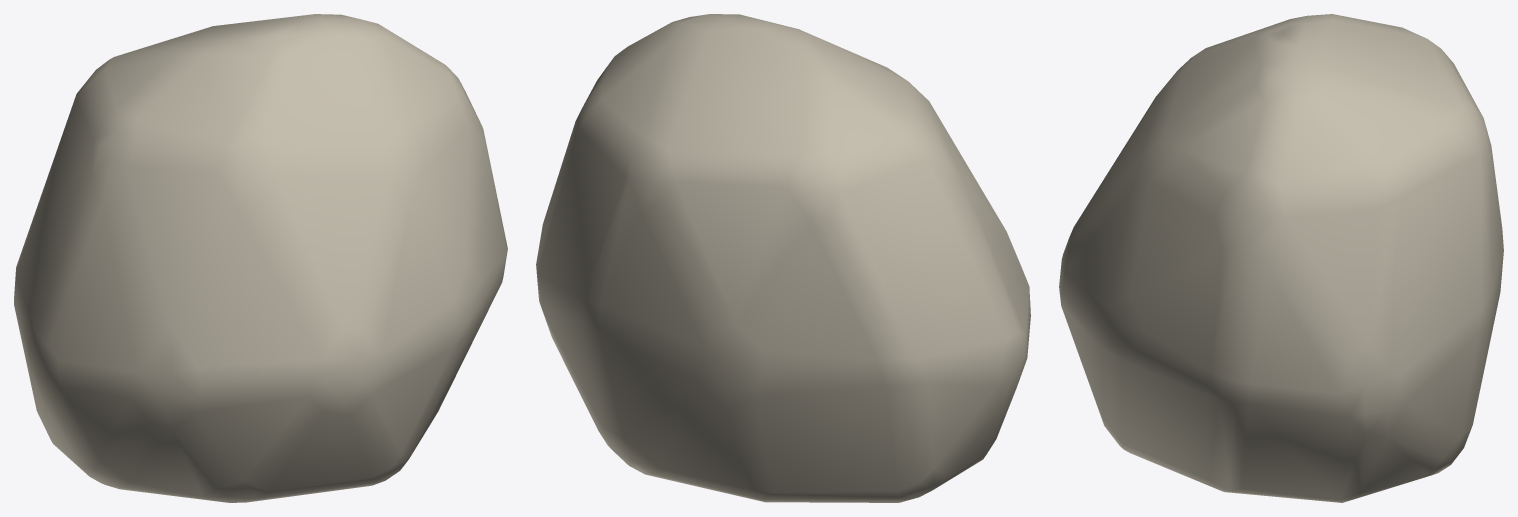
The model's file is Rock_02_Chunk_LOD0.fbx.
3 views of the same model, side by side, from view 1: azimuth 30°, elevation 25°; view 2: azimuth 150°, elevation 25°; view 3: azimuth 270°, elevation 25° (orthographic).
Visible parts, largest first — view 1: Rock_02_Chunk_LOD1_Mesh; view 2: Rock_02_Chunk_LOD1_Mesh; view 3: Rock_02_Chunk_LOD1_Mesh.
Boxes of the visible parts, <box> form: Rock_02_Chunk_LOD1_Mesh: <box>14,14,507,502</box>; Rock_02_Chunk_LOD1_Mesh: <box>536,14,1030,502</box>; Rock_02_Chunk_LOD1_Mesh: <box>1059,14,1503,502</box>.
Size of the model in its own units: 0.6397 by 0.5495 by 0.5459.
